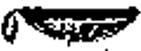Basket: (2, 4, 140, 48)
